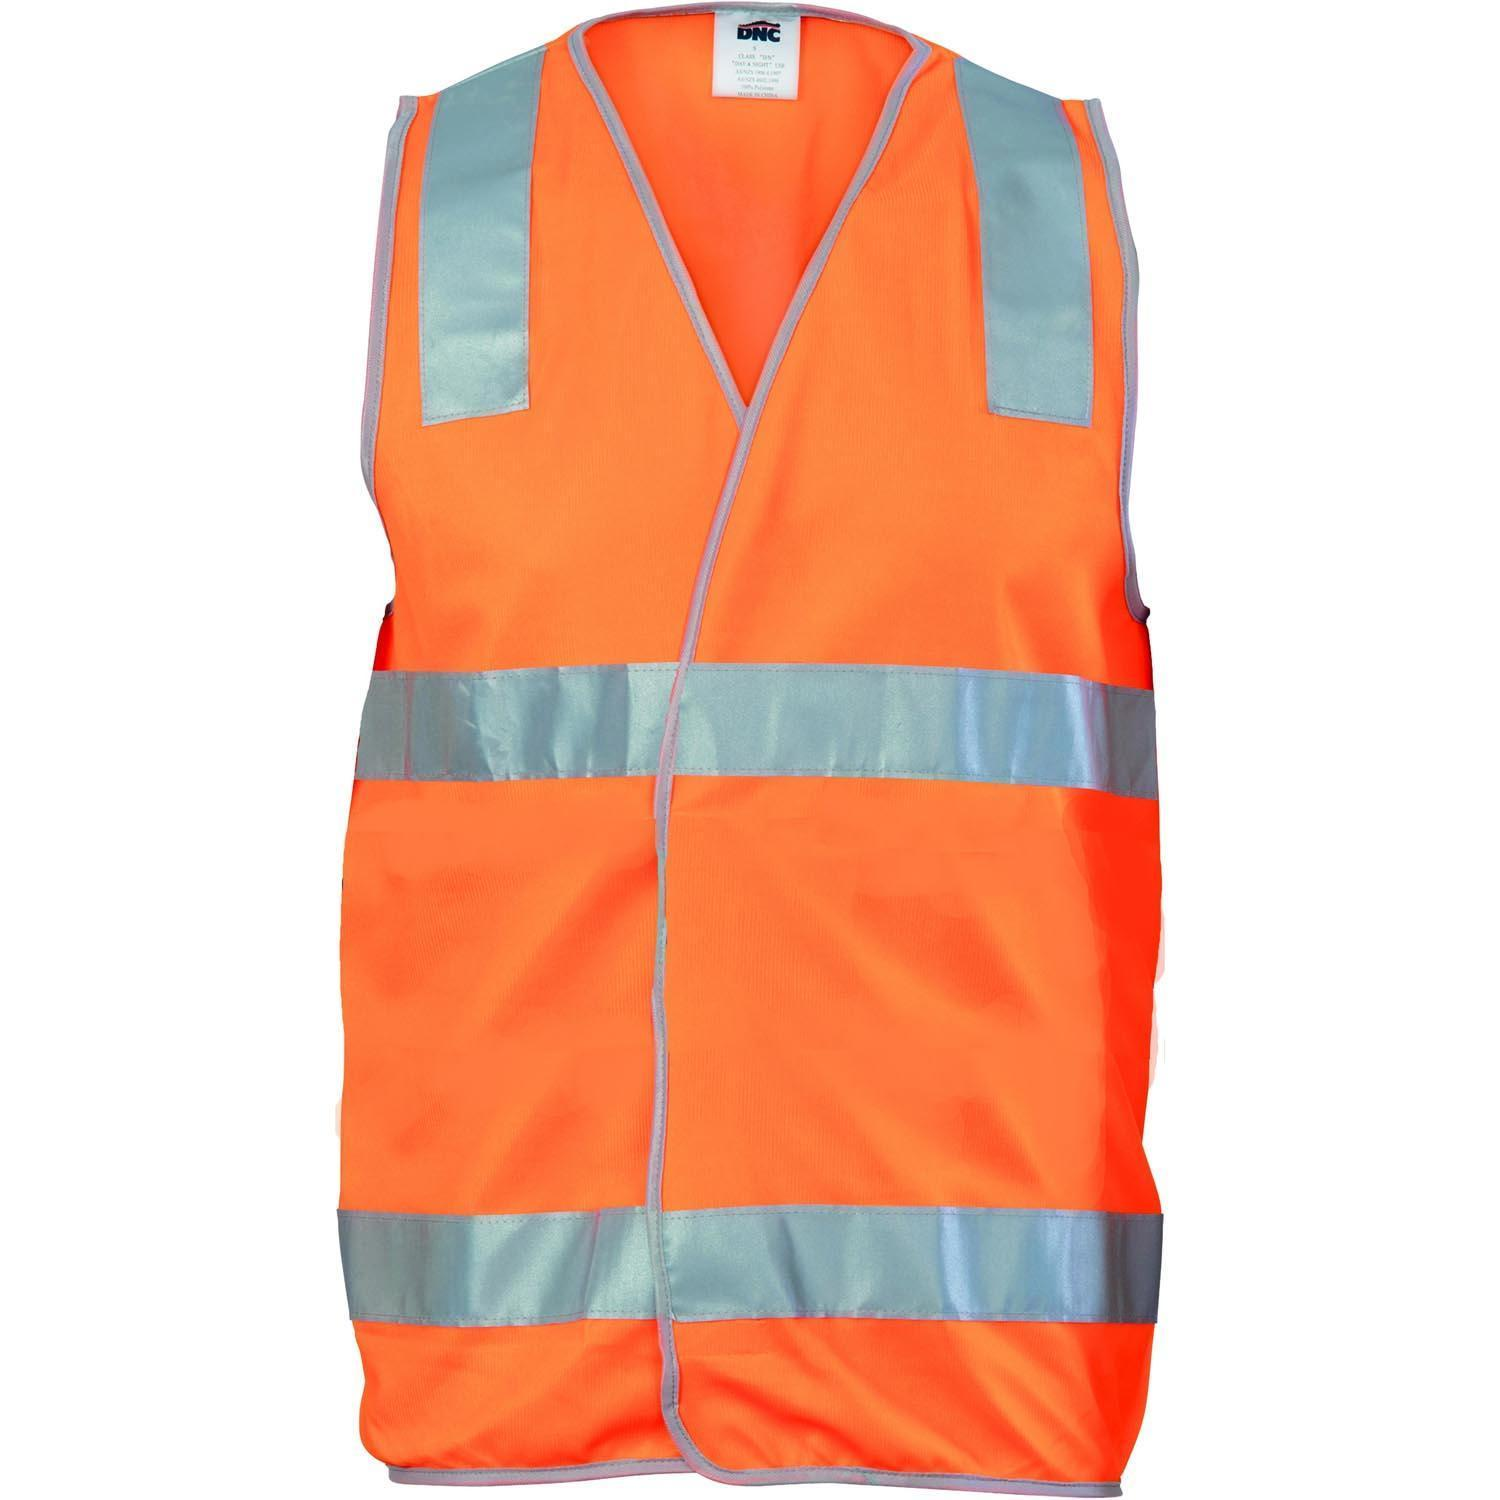vest: (328, 10, 1165, 1496)
